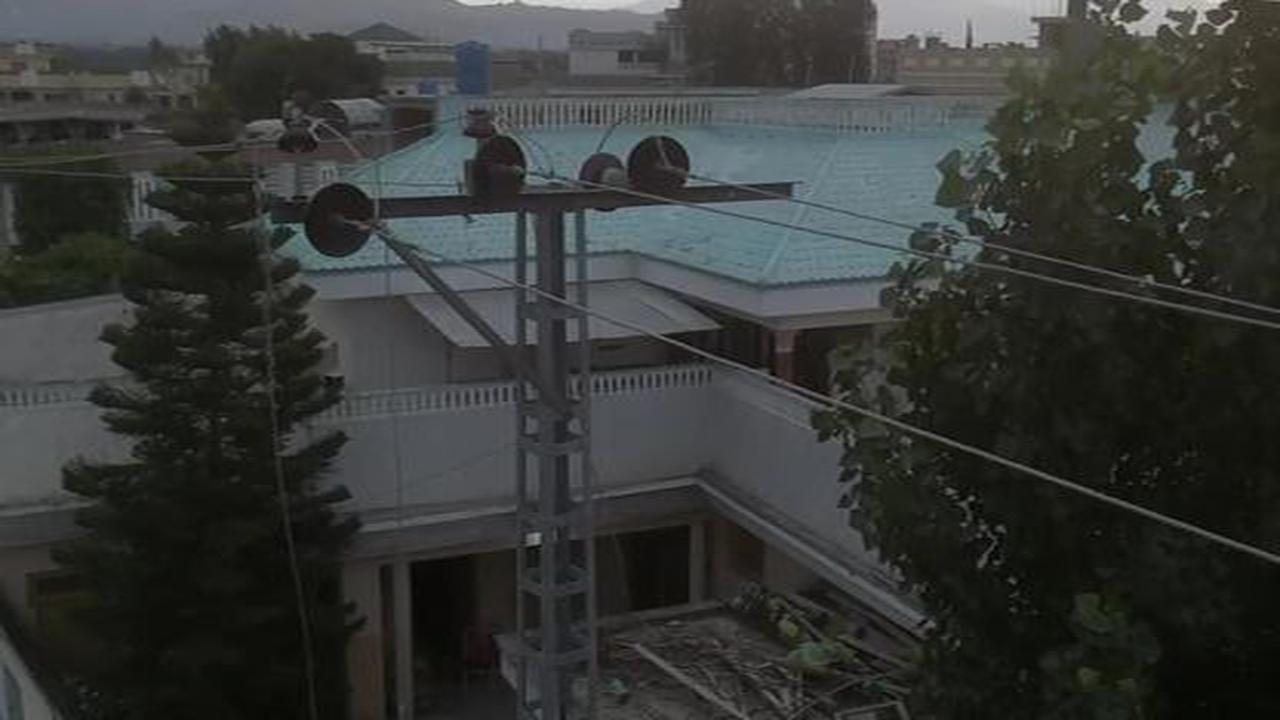insulator_disc: (301, 179, 381, 260), (622, 125, 692, 200), (468, 134, 530, 207), (578, 145, 630, 210)
insulator_pin: (275, 113, 327, 159), (457, 105, 505, 144)
